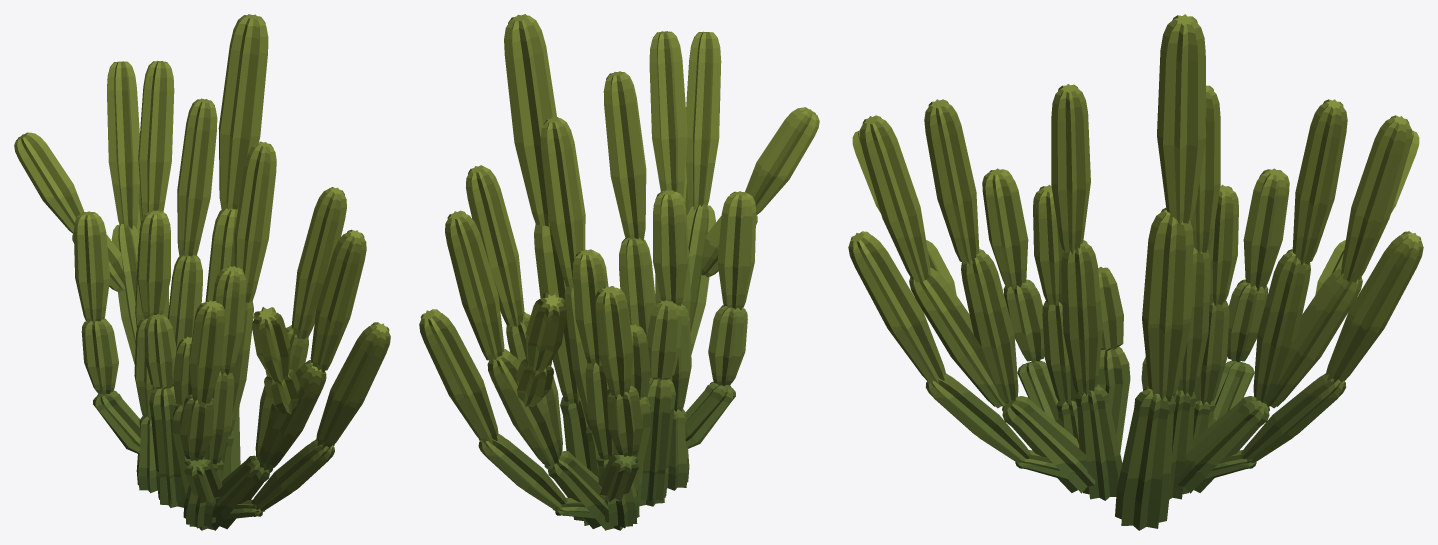
The model's file is cactus_big.fbx.
3 views of the same model, side by side, from view 1: azimuth 30°, elevation 25°; view 2: azimuth 150°, elevation 25°; view 3: azimuth 270°, elevation 25° (orthographic). The views are drawn at different scales.
Visible parts, largest first — view 1: Cylinder.004; view 2: Cylinder.004; view 3: Cylinder.004.
Boxes of the visible parts, x1,y1,x2,y2 form: Cylinder.004: [14, 14, 390, 530]; Cylinder.004: [419, 14, 819, 530]; Cylinder.004: [848, 14, 1423, 530].
Size of the model in its own units: 547 by 1606 by 1574.
